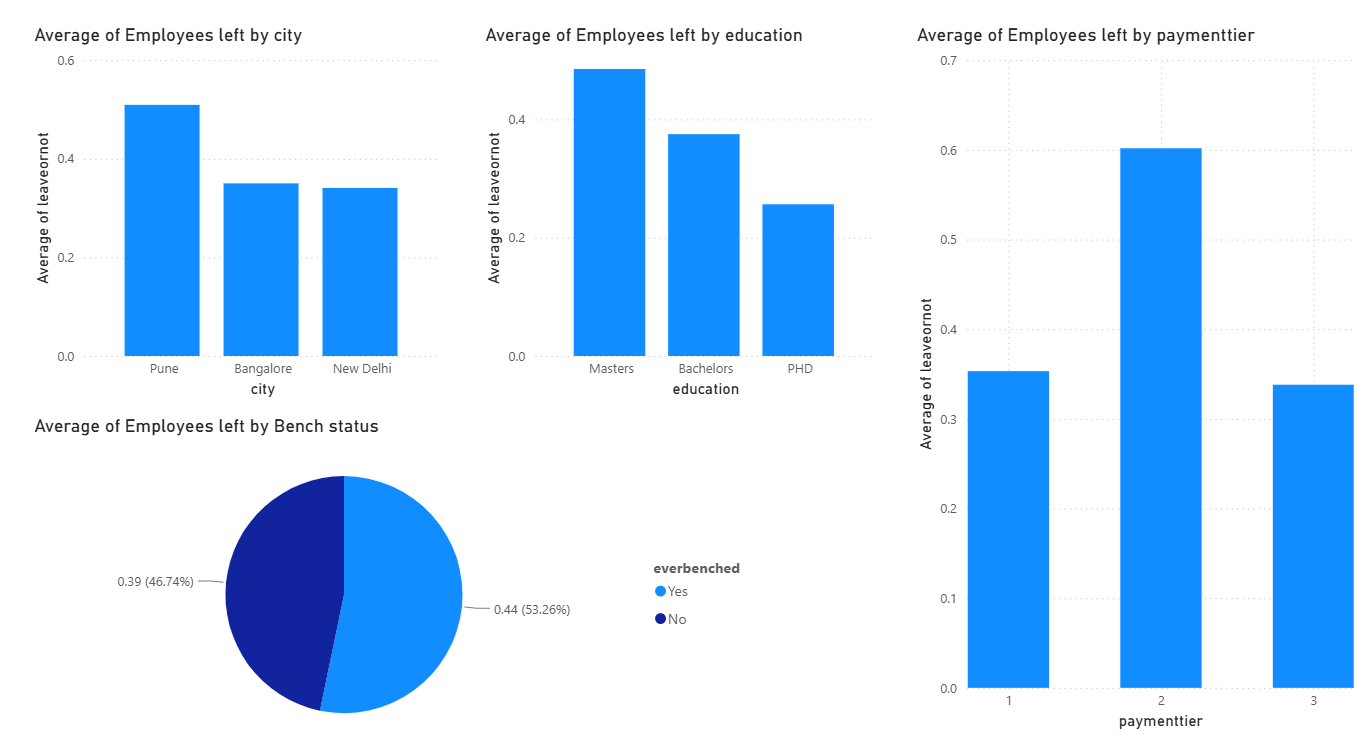

What the dashboard file says about the page in this screenshot:
{"tool":"powerbi","page":{"name":"Attrition Analysis","canvas":[1280,720],"ordinal":1},"visuals":[{"type":"clusteredColumnChart","title":"Average of Employees left by city","fields":{"Category":["employee_clean.city"],"Y":["Avg(employee_clean.leaveornot)"]},"box":[33.5,33.5,386.9,350.6],"z":0},{"type":"actionButton","box":[0,0,100,40],"z":1000},{"type":"clusteredColumnChart","title":"Average of Employees left by paymenttier","fields":{"Category":["employee_clean.paymenttier"],"Y":["Avg(employee_clean.leaveornot)"]},"box":[850.5,33.5,414.8,657.8],"z":2000},{"type":"clusteredColumnChart","title":"Average of Employees left by education","fields":{"Category":["employee_clean.education"],"Y":["Avg(employee_clean.leaveornot)"]},"box":[451.1,33.5,371.5,350.6],"z":3000},{"type":"pieChart","title":"Average of Employees left by Bench status","fields":{"Category":["employee_clean.everbenched"],"Y":["Avg(employee_clean.leaveornot)"]},"box":[33.5,395.2,681.5,314.2],"z":4000}]}

Visuals, with their boxes on the page's 1280x720 design canvas (x1, y1, x2, y2). These are canvas units, not pixel positions in the 1371x747 screenshot, which may show the page scaled, cropped or inside an application window:
"Average of Employees left by city" clusteredColumnChart: 34, 34, 420, 384
actionButton: 0, 0, 100, 40
"Average of Employees left by paymenttier" clusteredColumnChart: 850, 34, 1265, 691
"Average of Employees left by education" clusteredColumnChart: 451, 34, 823, 384
"Average of Employees left by Bench status" pieChart: 34, 395, 715, 709
